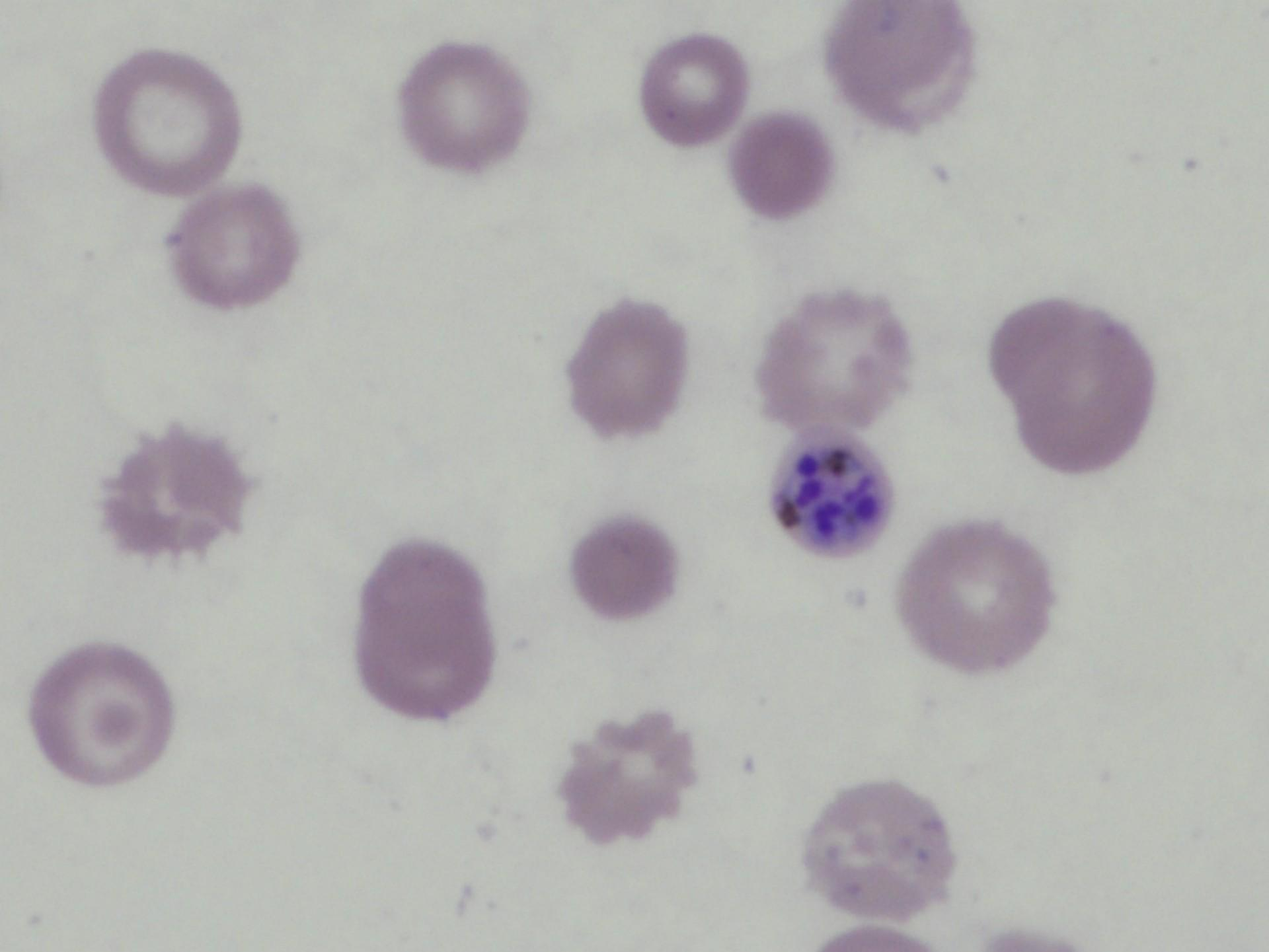Infected: (771, 426, 892, 558)
Uninfected: (987, 298, 1156, 473), (101, 419, 263, 564), (749, 287, 909, 432), (357, 540, 492, 711), (899, 518, 1060, 658), (31, 637, 170, 786), (95, 51, 238, 194), (811, 776, 953, 918), (824, 0, 975, 131), (555, 710, 699, 840), (568, 300, 692, 438), (163, 184, 297, 309), (408, 45, 527, 169), (639, 38, 746, 148), (734, 109, 836, 220), (577, 527, 684, 620)
